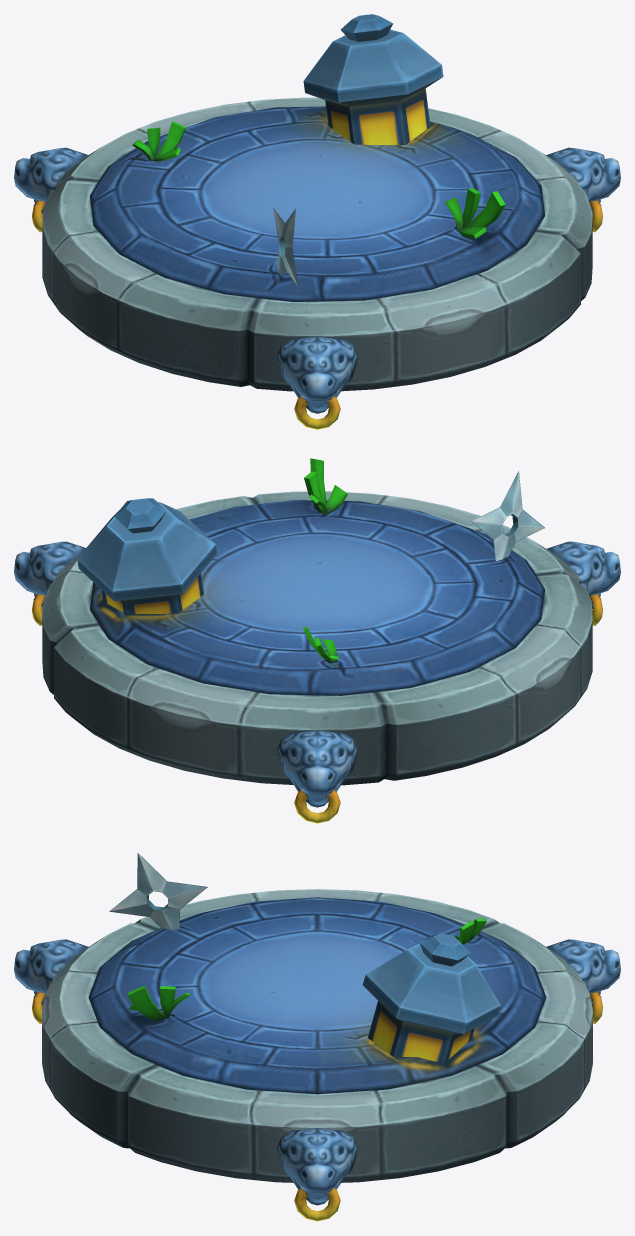
The model's file is stage4.fbx.
The picture shows the model from 3 angles, top to bottom: view 1: azimuth 30°, elevation 25°; view 2: azimuth 150°, elevation 25°; view 3: azimuth 270°, elevation 25°; orthographic projection.
Visible parts, largest first — view 1: pCylinder42; view 2: pCylinder42; view 3: pCylinder42.
Part boxes in pixels (box(x1,y1,x2,y2)): pCylinder42: box(14, 14, 620, 429); pCylinder42: box(14, 458, 620, 823); pCylinder42: box(14, 853, 620, 1221).
Size of the model in its own units: 1.52 by 0.5559 by 1.47.
